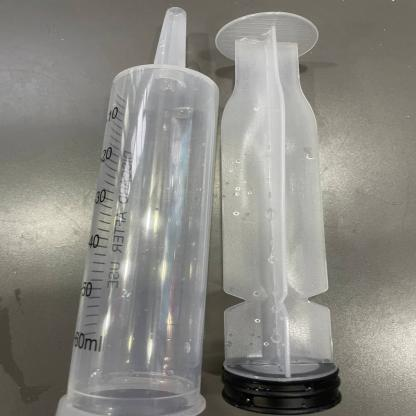wet: (203, 9, 353, 412), (81, 5, 209, 414)
